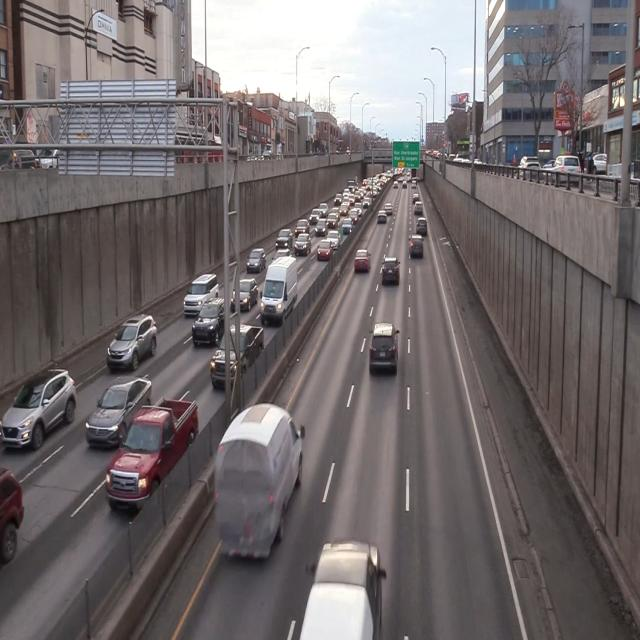Car: (215, 404, 308, 560), (105, 396, 199, 522), (0, 359, 81, 452), (84, 370, 154, 452), (212, 324, 269, 389), (104, 309, 158, 374), (259, 256, 299, 324), (365, 323, 404, 379), (191, 296, 232, 347), (380, 254, 402, 290)
